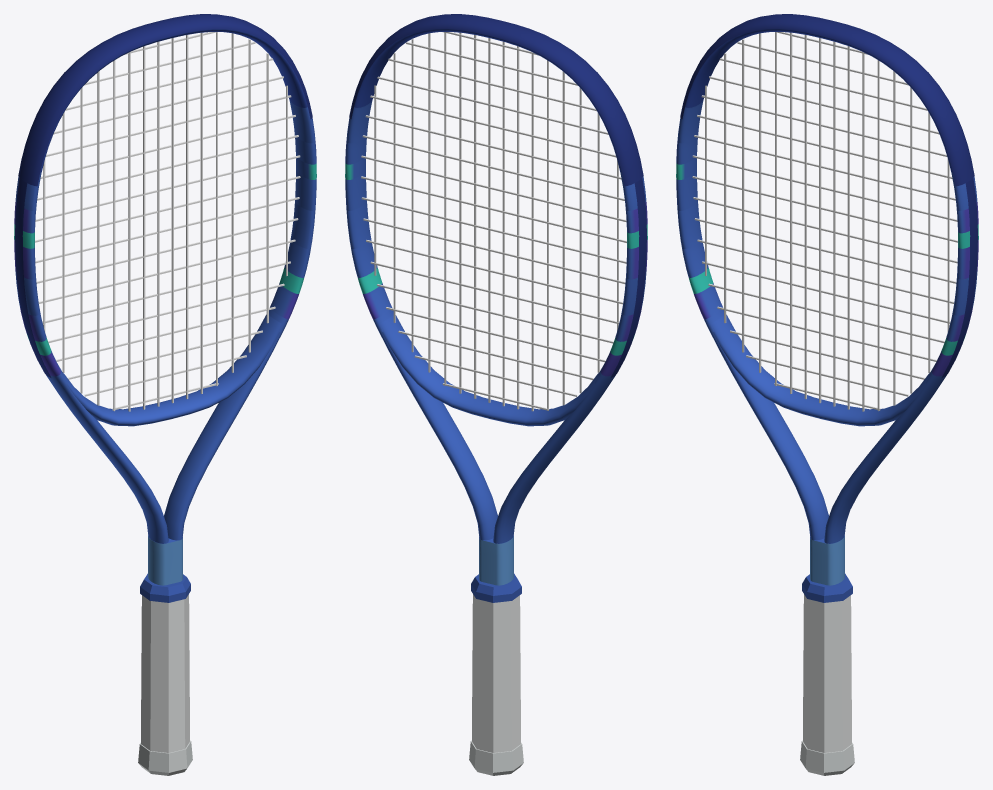
File: yonex-ezone-jr-25.glb
3 renders of one model, left to right at view 1: azimuth 30°, elevation 25°; view 2: azimuth 150°, elevation 25°; view 3: azimuth 330°, elevation 25°, orthographic.
Visible parts, largest first — view 1: frame, strings_mains, strings_crosses, grip, bumper, grommets, butt_cap, collar; view 2: frame, strings_mains, strings_crosses, grip, bumper, grommets, butt_cap, collar; view 3: frame, strings_mains, strings_crosses, grip, bumper, grommets, butt_cap, collar.
Boxes of the visible parts, box(x1,y1,x2,y2) form: frame: box(14, 29, 316, 585); strings_mains: box(43, 32, 287, 411); strings_crosses: box(35, 32, 300, 410); grip: box(141, 594, 189, 752); bumper: box(18, 14, 312, 186); grommets: box(15, 178, 51, 377); butt_cap: box(138, 740, 192, 775); collar: box(140, 573, 190, 602); frame: box(345, 29, 647, 585); strings_mains: box(374, 32, 618, 411); strings_crosses: box(361, 32, 626, 410); grip: box(472, 594, 520, 752); bumper: box(349, 14, 643, 186); grommets: box(610, 178, 646, 377); butt_cap: box(469, 740, 523, 775); collar: box(471, 573, 521, 602); frame: box(676, 29, 978, 585); strings_mains: box(705, 32, 949, 411); strings_crosses: box(692, 32, 957, 410); grip: box(803, 594, 851, 752); bumper: box(680, 14, 974, 186); grommets: box(941, 178, 977, 377); butt_cap: box(800, 740, 854, 775); collar: box(802, 573, 852, 602).
Size of the model in its own units: 0.2636 by 0.6353 by 0.0396.
